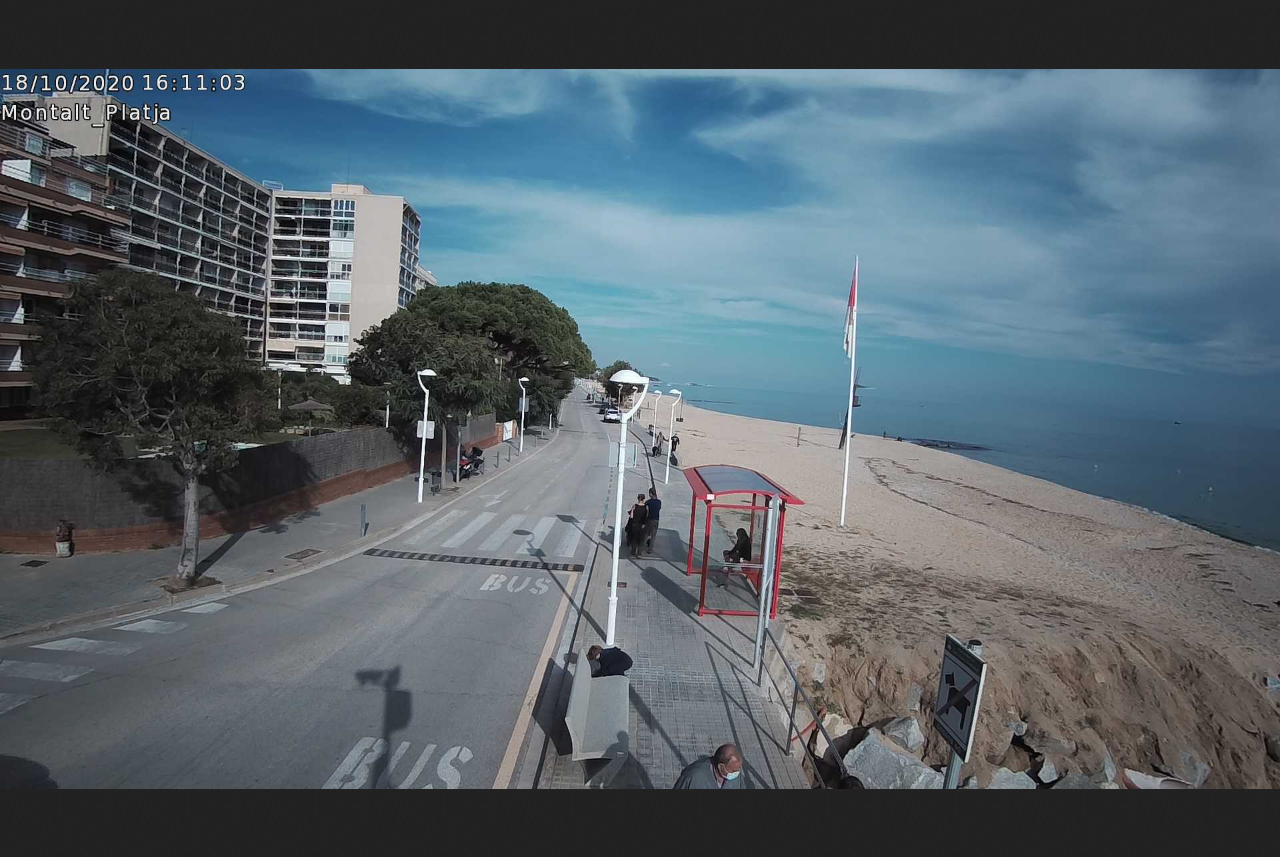no: (839, 266, 861, 356)
